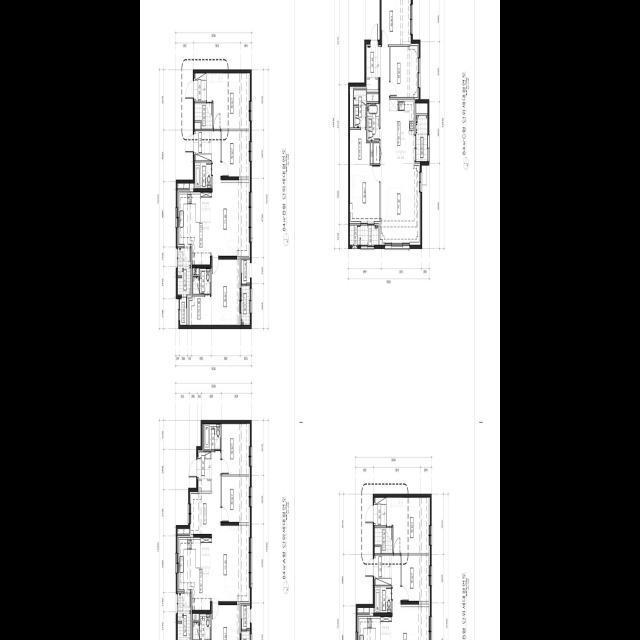background: (140, 0, 500, 640)
space_balconi: (177, 247, 190, 294), (177, 593, 190, 640), (416, 115, 427, 160), (361, 225, 378, 244), (242, 285, 250, 324)
space_bedroom: (206, 72, 249, 128), (386, 497, 429, 553), (350, 165, 379, 221), (390, 45, 418, 97), (222, 423, 249, 474), (222, 476, 249, 522), (222, 130, 249, 176), (382, 0, 410, 44), (402, 555, 429, 600)
space_dressroom: (350, 129, 370, 165), (189, 296, 211, 324)
space_front: (367, 40, 380, 77), (197, 451, 212, 479), (194, 130, 212, 153), (374, 555, 392, 578), (374, 497, 386, 525), (194, 73, 206, 100)
space_kitchen: (178, 537, 212, 610), (179, 192, 212, 264), (389, 99, 414, 163), (359, 616, 392, 640)
space_living_room: (380, 46, 419, 243), (212, 451, 249, 601), (212, 130, 249, 256), (392, 555, 429, 640)
space_multipurpose_space: (211, 259, 240, 324), (212, 605, 240, 640)
space_other: (191, 493, 212, 533), (195, 102, 212, 128), (375, 527, 392, 553), (180, 297, 187, 325), (350, 225, 360, 244), (199, 480, 211, 490), (416, 103, 428, 113), (350, 88, 353, 127), (367, 79, 378, 89), (374, 142, 379, 163), (196, 154, 212, 160), (367, 93, 379, 101), (376, 578, 391, 584), (241, 631, 250, 640), (178, 183, 189, 188), (178, 528, 189, 533), (358, 607, 369, 612), (193, 613, 199, 620), (371, 142, 373, 163), (375, 546, 381, 553), (193, 268, 199, 274), (195, 122, 201, 128)
space_outdoor_room: (241, 605, 250, 629), (241, 259, 250, 283)
space_toilet: (193, 613, 211, 640), (193, 268, 211, 294), (367, 103, 379, 140), (354, 89, 366, 126), (195, 162, 212, 188), (204, 423, 221, 449), (375, 586, 392, 612)
